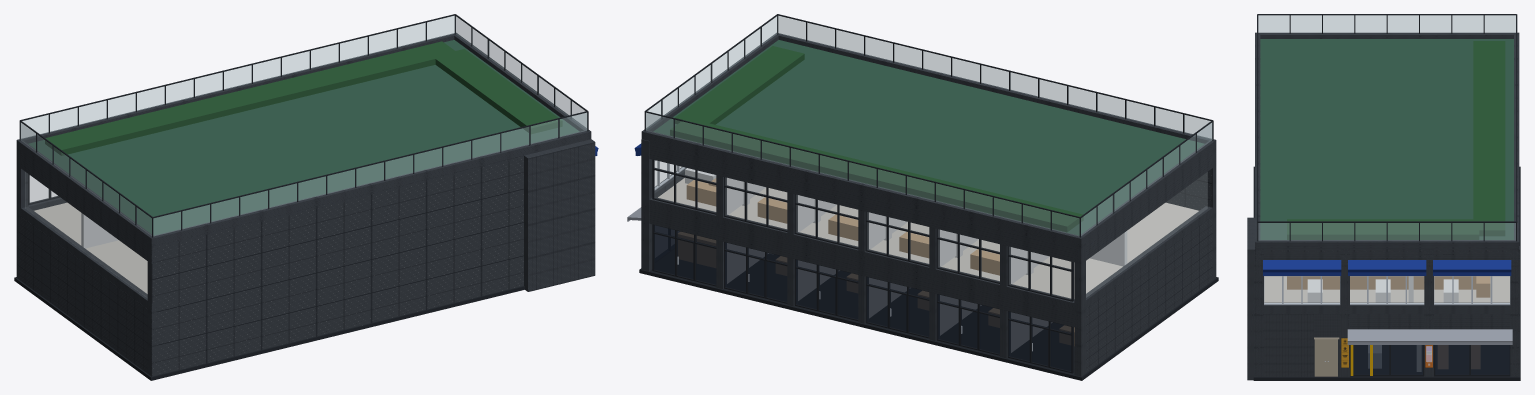
Rendered from Geumho_2Story_Commercial_NorthDoors.glb.
3 views of the same model, side by side, from view 1: azimuth 30°, elevation 25°; view 2: azimuth 150°, elevation 25°; view 3: azimuth 270°, elevation 25° (orthographic). The views are drawn at different scales.
Parts seen in each view (by area): view 1: Geumho_2Story_Commercial_NorthDoors; view 2: Geumho_2Story_Commercial_NorthDoors; view 3: Geumho_2Story_Commercial_NorthDoors, Blue_Awning_2F_1, Blue_Awning_2F_2, Blue_Awning_2F_3, East_Beige_Double_Door, East_Pillar_Yellow_Structure_Left.
Boxes of the visible parts, bbox=[...] form: Geumho_2Story_Commercial_NorthDoors: bbox=[14, 14, 595, 380]; Geumho_2Story_Commercial_NorthDoors: bbox=[627, 14, 1218, 380]; Geumho_2Story_Commercial_NorthDoors: bbox=[1247, 14, 1520, 380]; Blue_Awning_2F_1: bbox=[1263, 260, 1341, 275]; Blue_Awning_2F_2: bbox=[1348, 260, 1426, 275]; Blue_Awning_2F_3: bbox=[1433, 260, 1511, 275]; East_Beige_Double_Door: bbox=[1314, 337, 1339, 376]; East_Pillar_Yellow_Structure_Left: bbox=[1341, 337, 1349, 367].
Bounding box in the file's own units: 25.88 × 8.69 × 13.67.
Materials: 21 (4 with a texture image).
